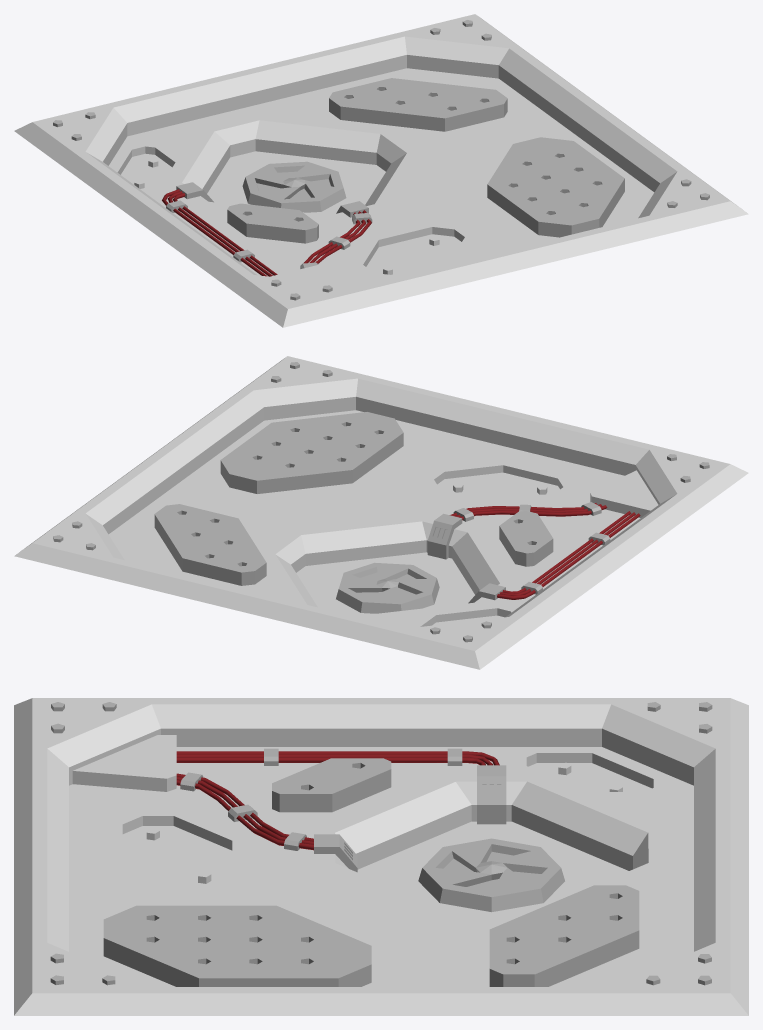
The model's file is TowerCell.fbx.
3 views of the same model, one above another, from view 1: azimuth 30°, elevation 25°; view 2: azimuth 150°, elevation 25°; view 3: azimuth 270°, elevation 25° (orthographic). The views are drawn at different scales.
Visible parts, largest first — view 1: Cube, BezierCurve; view 2: Cube, BezierCurve; view 3: Cube, BezierCurve.
Boxes of the visible parts, x1,y1,x2,y2 form: Cube: (14,14,748,327); BezierCurve: (162,189,371,276); Cube: (14,356,748,669); BezierCurve: (450,503,640,599); Cube: (14,698,748,1015); BezierCurve: (176,751,499,850).
Size of the model in its own units: 100 by 10.6 by 100.
